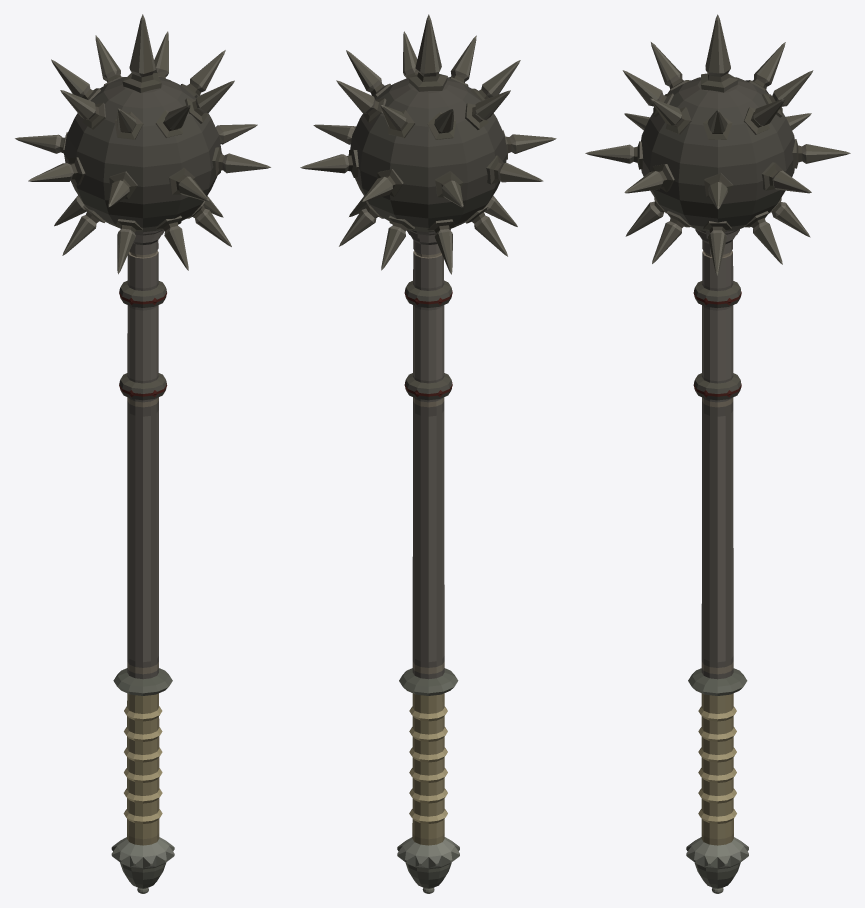
File: bluntHeavyMorningStar.glb
3 views of the same model, side by side, from view 1: azimuth 30°, elevation 25°; view 2: azimuth 150°, elevation 25°; view 3: azimuth 270°, elevation 25° (orthographic).
Visible parts, largest first — view 1: BluntHeavyMorningStar; view 2: BluntHeavyMorningStar; view 3: BluntHeavyMorningStar.
Part boxes in pixels (left/top/right/bottom): BluntHeavyMorningStar: left=15, top=14, right=270, bottom=893; BluntHeavyMorningStar: left=300, top=14, right=556, bottom=893; BluntHeavyMorningStar: left=585, top=14, right=850, bottom=893.
Size of the model in its own units: 0.3142 by 1.15 by 0.3142.
